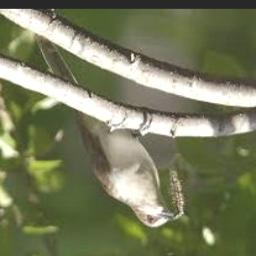Cuckoo: (37, 33, 179, 228)
